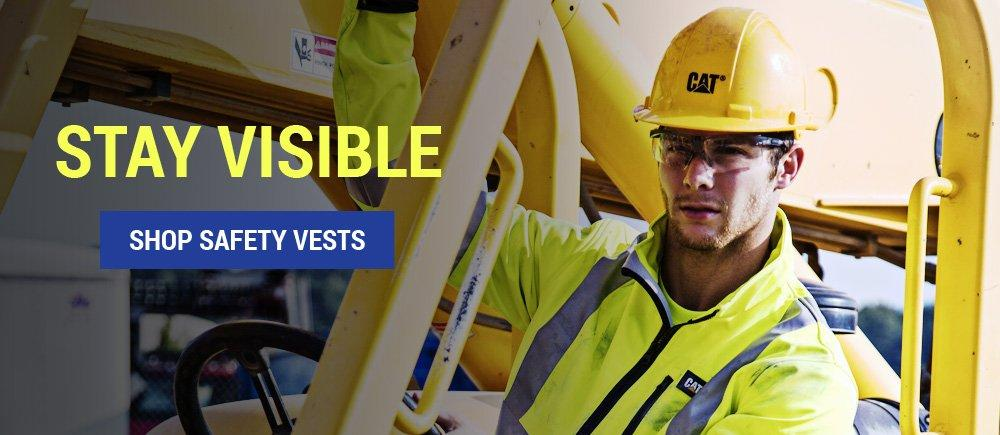helmet: (637, 5, 808, 139)
